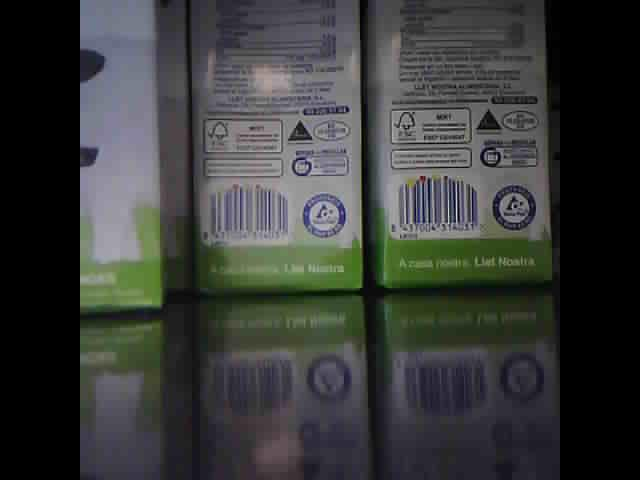leche: (373, 3, 546, 292), (194, 5, 361, 298), (82, 2, 158, 310), (160, 4, 188, 294)
